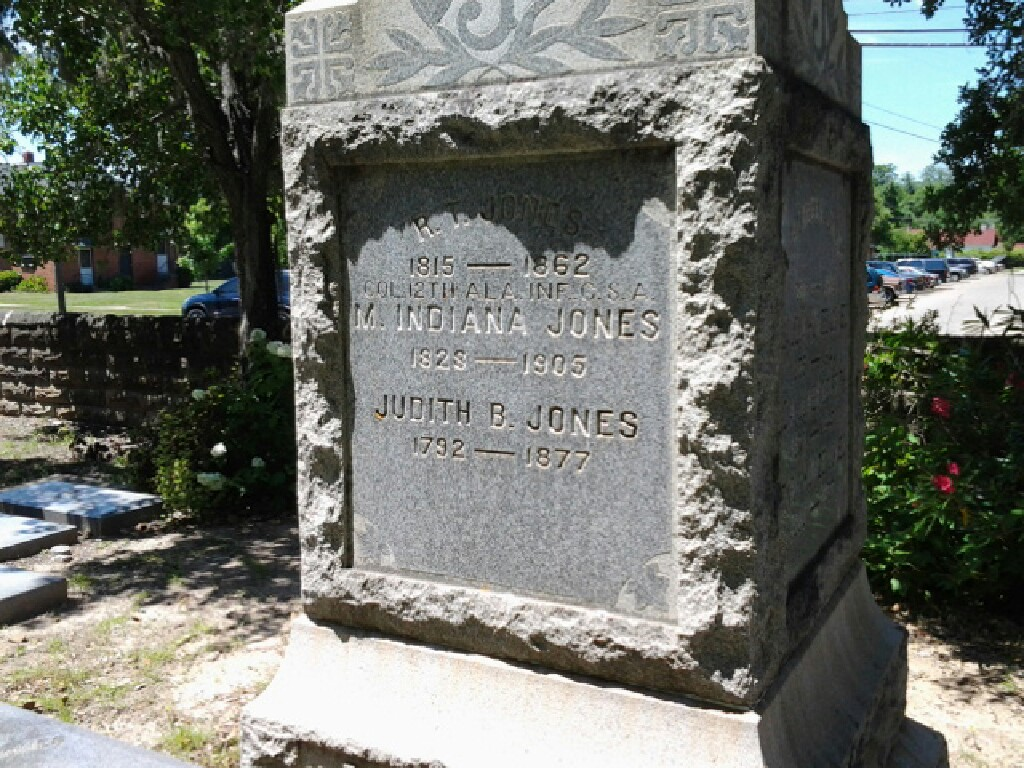obelisk: (275, 0, 865, 768)
